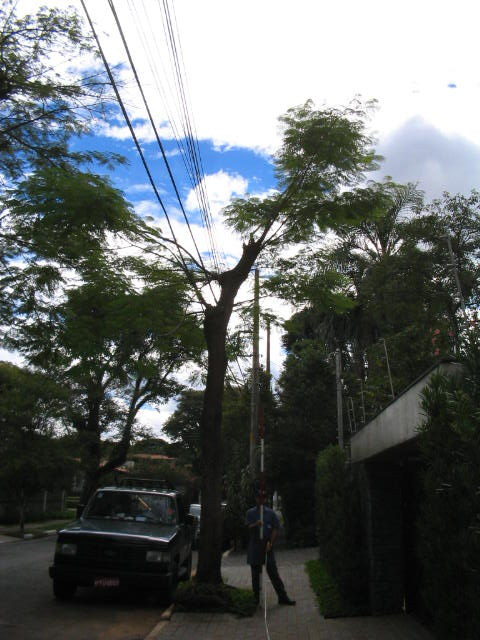crown: (29, 98, 414, 370)
stem: (188, 320, 237, 601)
stick: (252, 404, 274, 611)
tree: (26, 95, 416, 604)
